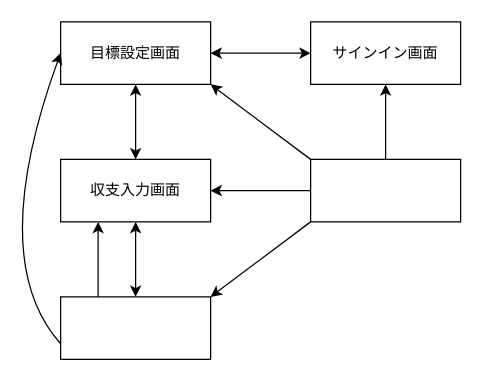
The diagram is 483 pixels wide and 381 high, and some of its shapes have lost their labels. The shapes that lost their labels are listed below. From the top down, each one's box as (x1, y1, x2, y2) in pixels, then its label:
(309, 158, 461, 222): ログイン画面
(59, 296, 211, 359): 戦闘画面
